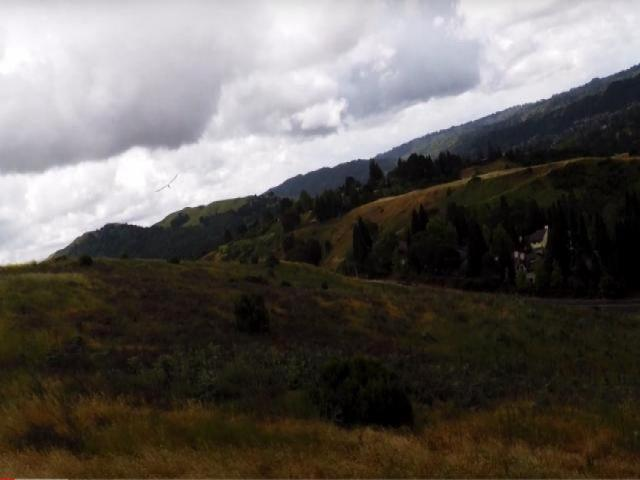iha: (156, 171, 177, 196)
